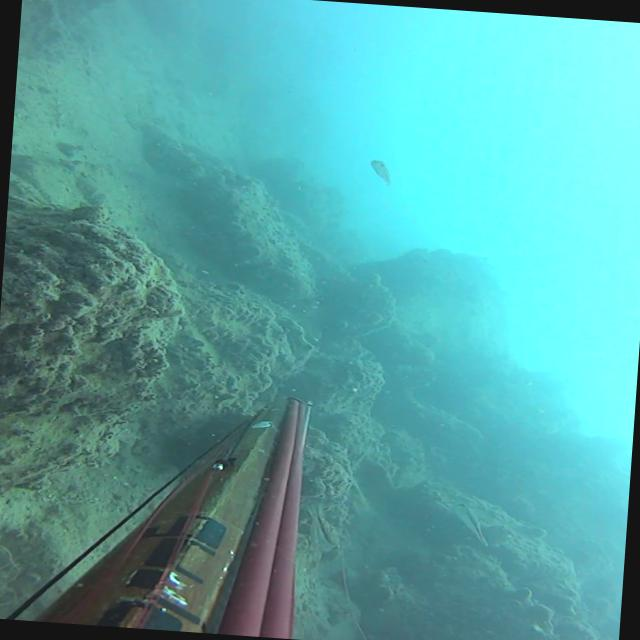Balon Baligi: (303, 498, 343, 550), (452, 502, 491, 546), (368, 159, 392, 185)
